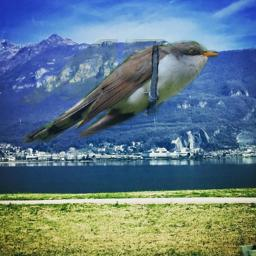Cuckoo: (19, 39, 218, 143)
